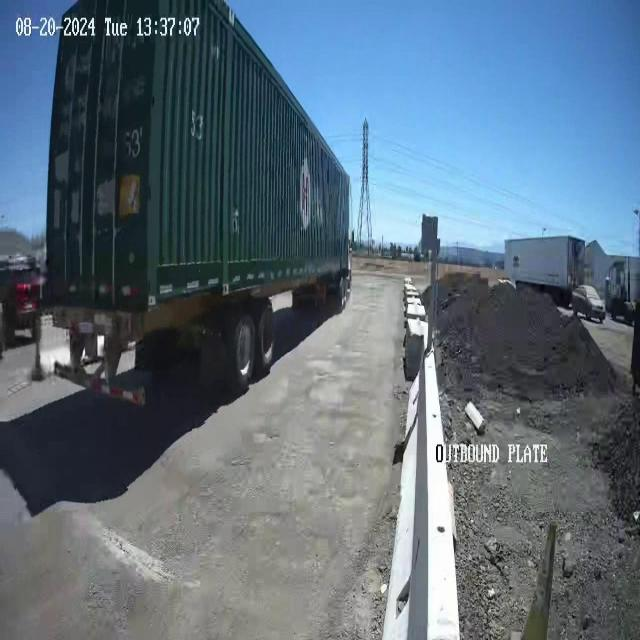TRUCK_IN: (43, 1, 353, 397)
